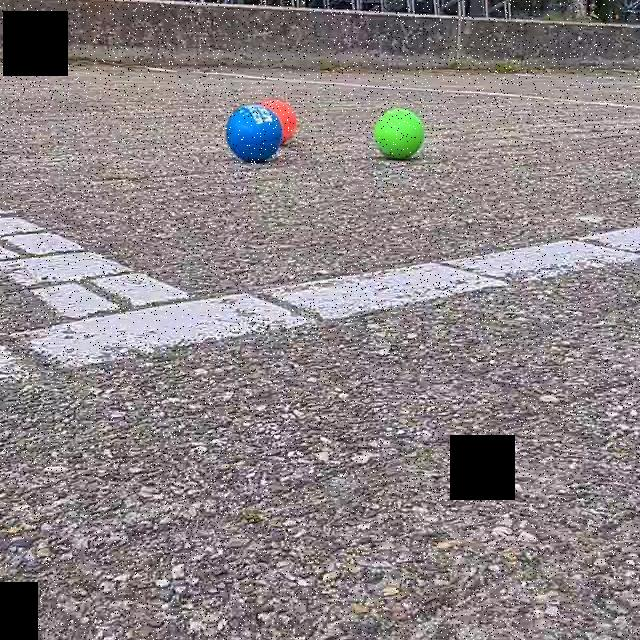ball: (372, 104, 428, 162)
